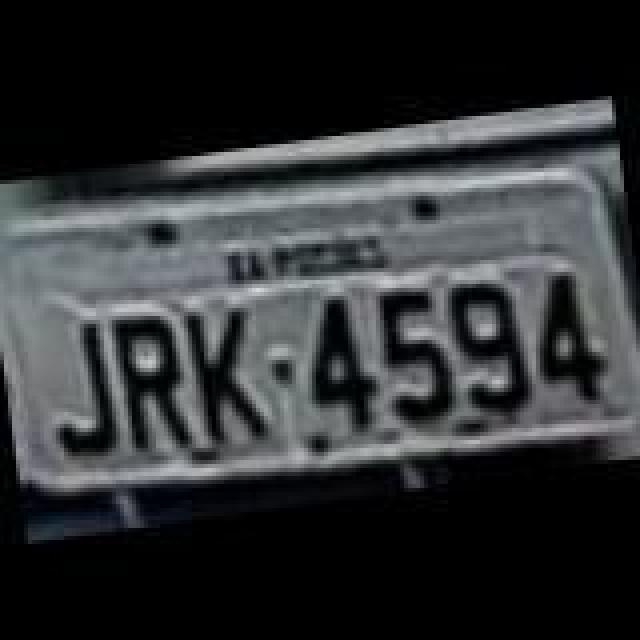4: (520, 260, 616, 412), (298, 284, 390, 436)
5: (372, 276, 468, 428)
9: (442, 270, 534, 418)
J: (36, 308, 132, 460)
K: (180, 298, 276, 454)
R: (106, 306, 198, 462)
